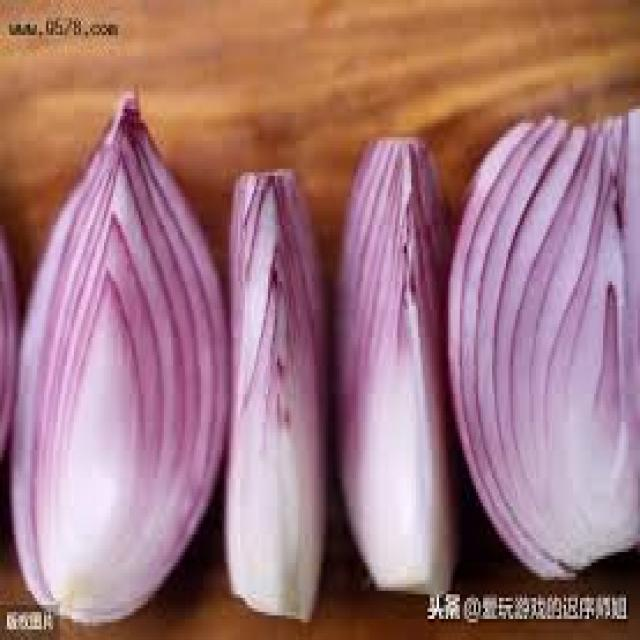organic waste: (5, 84, 228, 616), (441, 106, 638, 573), (326, 130, 464, 594), (222, 162, 326, 619), (0, 218, 18, 450)
